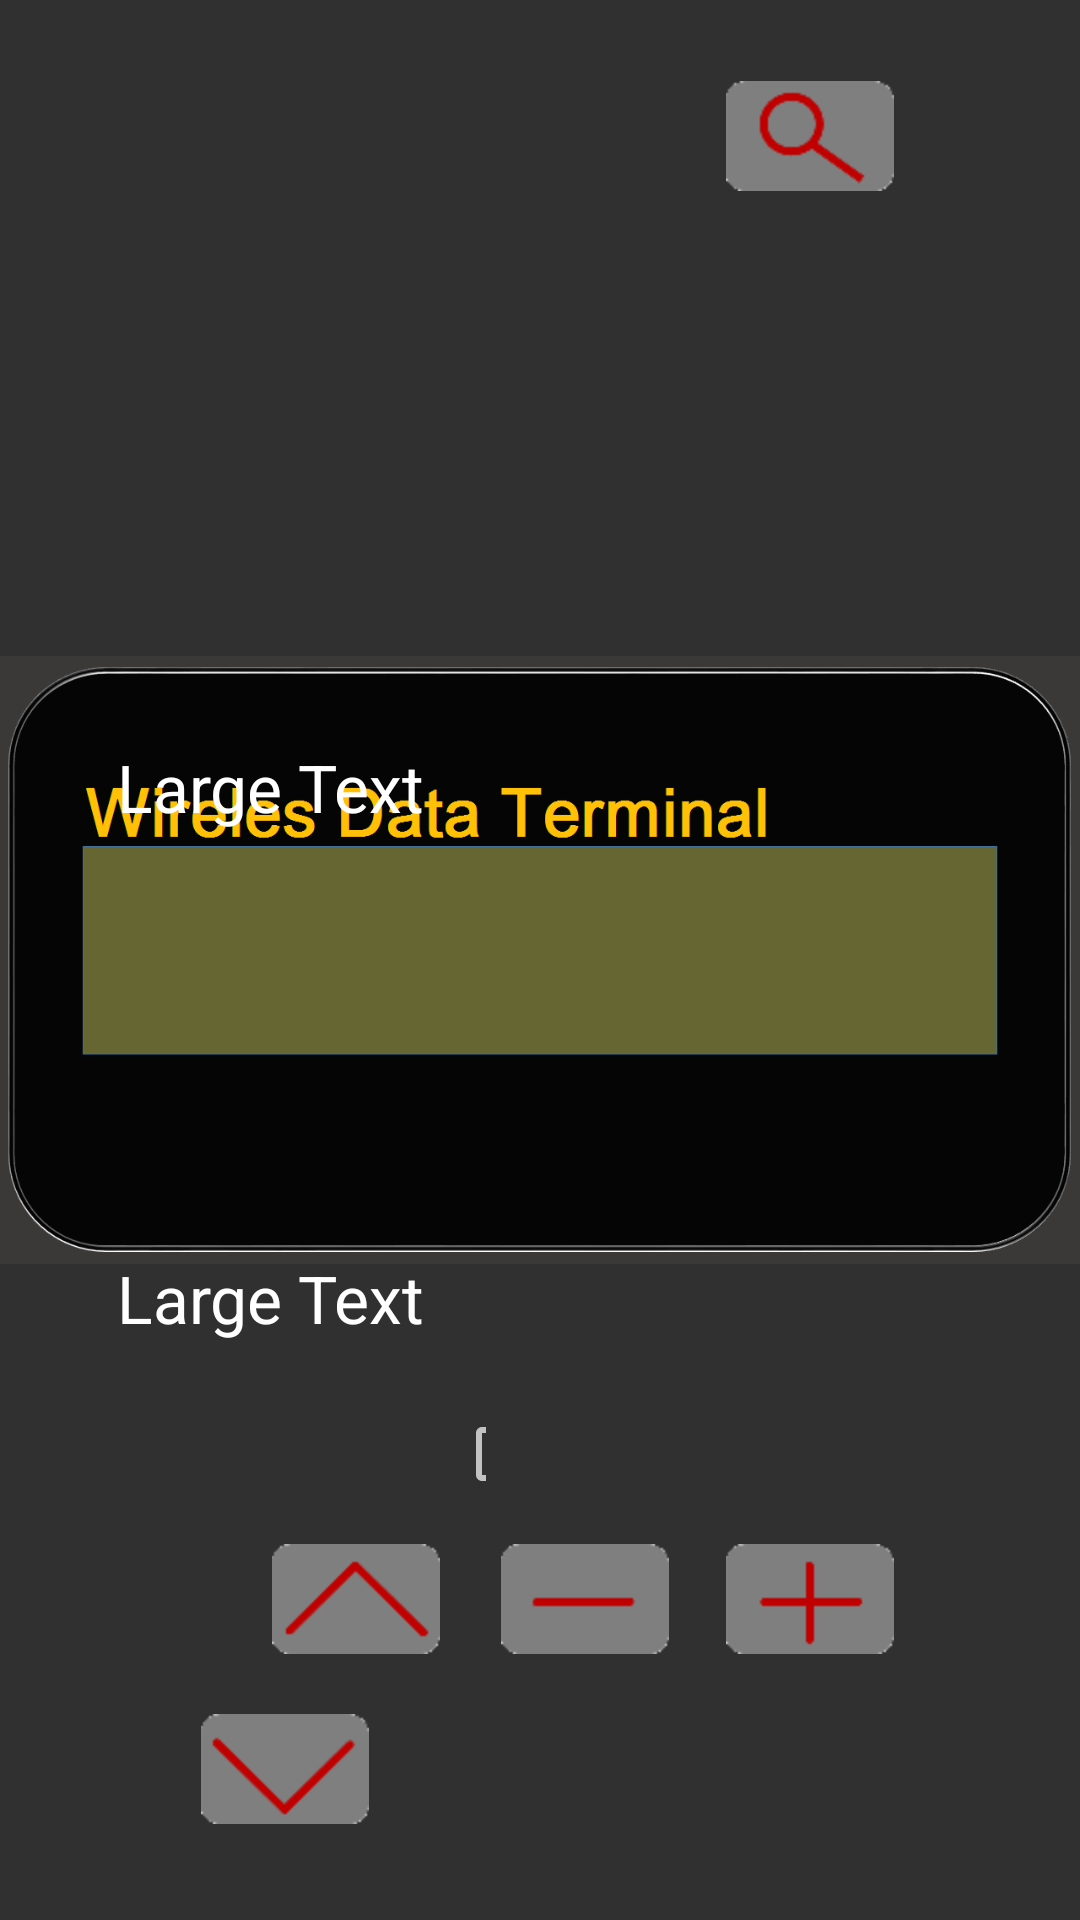

Icon click points for this 1080 × 1920 phone screenshot, format [x,y]:
arrowdownimg: [285,1769]
arrowupimg: [356,1599]
minusimg: [585,1599]
plusimg: [810,1599]
searchimg: [810,136]
